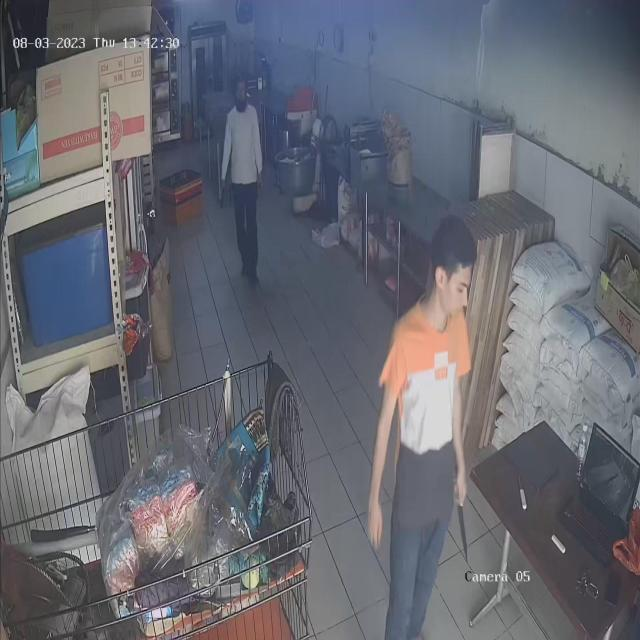Knife: (446, 481, 486, 575)
